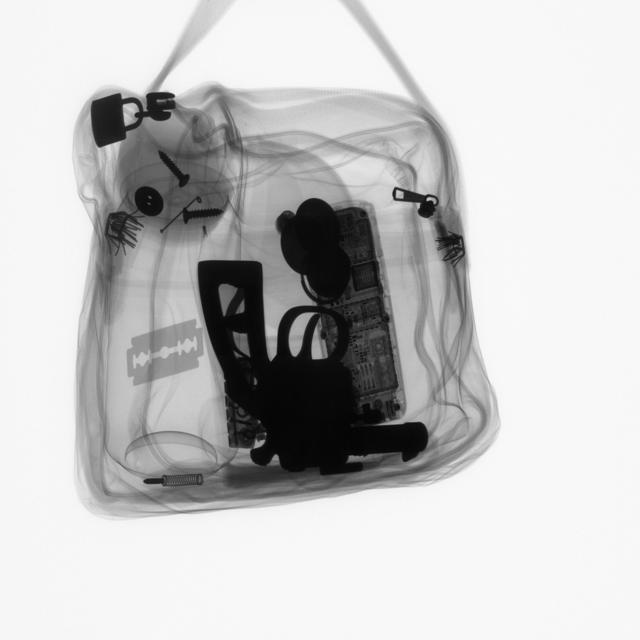gun: (196, 260, 434, 466)
razor: (124, 324, 204, 384)
snail: (155, 147, 196, 189), (178, 204, 235, 226)
